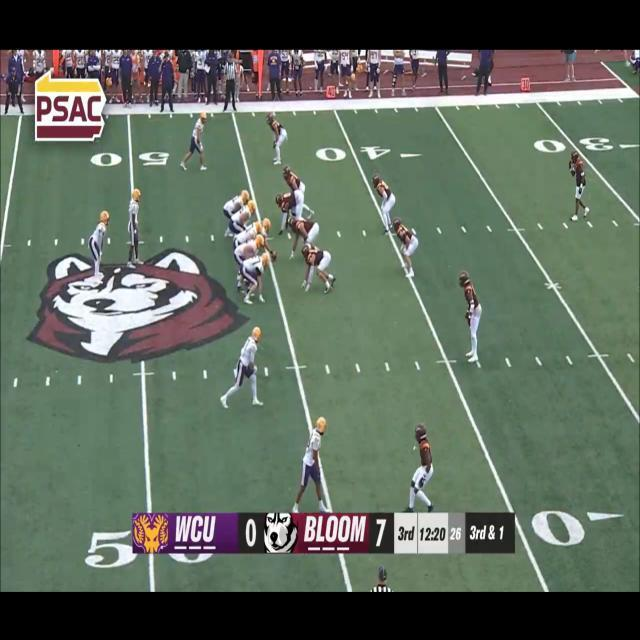football: (270, 248, 278, 262)
